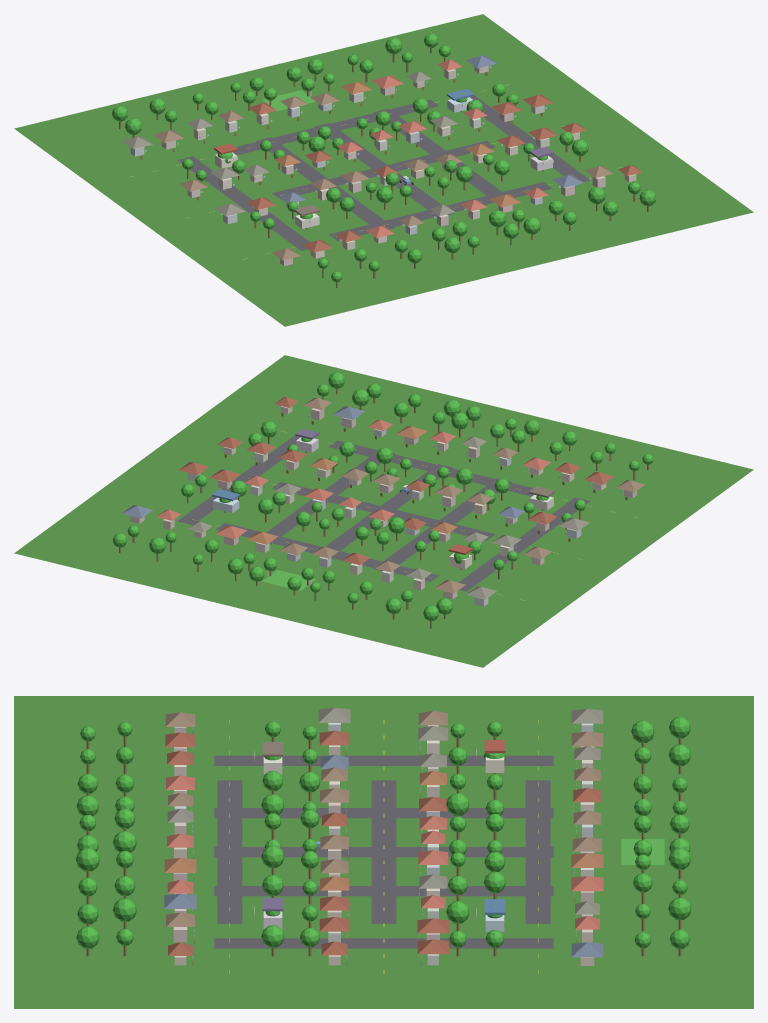
3 views of the same model, one above another, from view 1: azimuth 30°, elevation 25°; view 2: azimuth 150°, elevation 25°; view 3: azimuth 270°, elevation 25° (orthographic). The views are drawn at different scales.
Visible parts, largest first — view 1: Ground, Road_V0, Road_H2, Road_H1, Road_V1, Road_H0, Road_V2, Road_V4, Road_V3; view 2: Ground, Road_V0, Road_V4, Road_V1, Road_H2, Road_H0, Road_V2, Road_V3, Road_H1; view 3: Ground, Road_H1, Road_H2, Road_H0, Road_V4, Road_V0, Road_V2, Road_V3, Road_V1, SoccerField.
Boxes of the visible parts, left/top/right/bottom form: Ground: left=14, top=14, right=753, bottom=326; Road_V0: left=177, top=156, right=309, bottom=250; Road_H2: left=328, top=182, right=551, bottom=240; Road_H1: left=216, top=99, right=438, bottom=155; Road_V1: left=256, top=137, right=394, bottom=229; Road_H0: left=272, top=141, right=495, bottom=199; Road_V2: left=314, top=123, right=453, bottom=216; Road_V4: left=469, top=95, right=590, bottom=181; Road_V3: left=373, top=108, right=501, bottom=195; Ground: left=14, top=355, right=753, bottom=667; Road_V0: left=459, top=497, right=590, bottom=591; Road_V4: left=177, top=435, right=300, bottom=524; Road_V1: left=373, top=478, right=511, bottom=571; Road_H2: left=329, top=440, right=533, bottom=496; Road_H0: left=272, top=482, right=495, bottom=540; Road_V2: left=325, top=464, right=453, bottom=556; Road_V3: left=266, top=451, right=394, bottom=543; Road_H1: left=216, top=523, right=439, bottom=581; Ground: left=14, top=696, right=753, bottom=1008; Road_H1: left=525, top=780, right=550, bottom=923; Road_H2: left=217, top=780, right=242, bottom=923; Road_H0: left=371, top=780, right=396, bottom=923; Road_V4: left=214, top=938, right=553, bottom=948; Road_V0: left=214, top=755, right=553, bottom=765; Road_V2: left=214, top=847, right=553, bottom=857; Road_V3: left=214, top=886, right=553, bottom=896; Road_V1: left=214, top=808, right=553, bottom=818; SoccerField: left=621, top=839, right=664, bottom=864.
Size of the model in its own units: 120 by 6.04 by 120.
